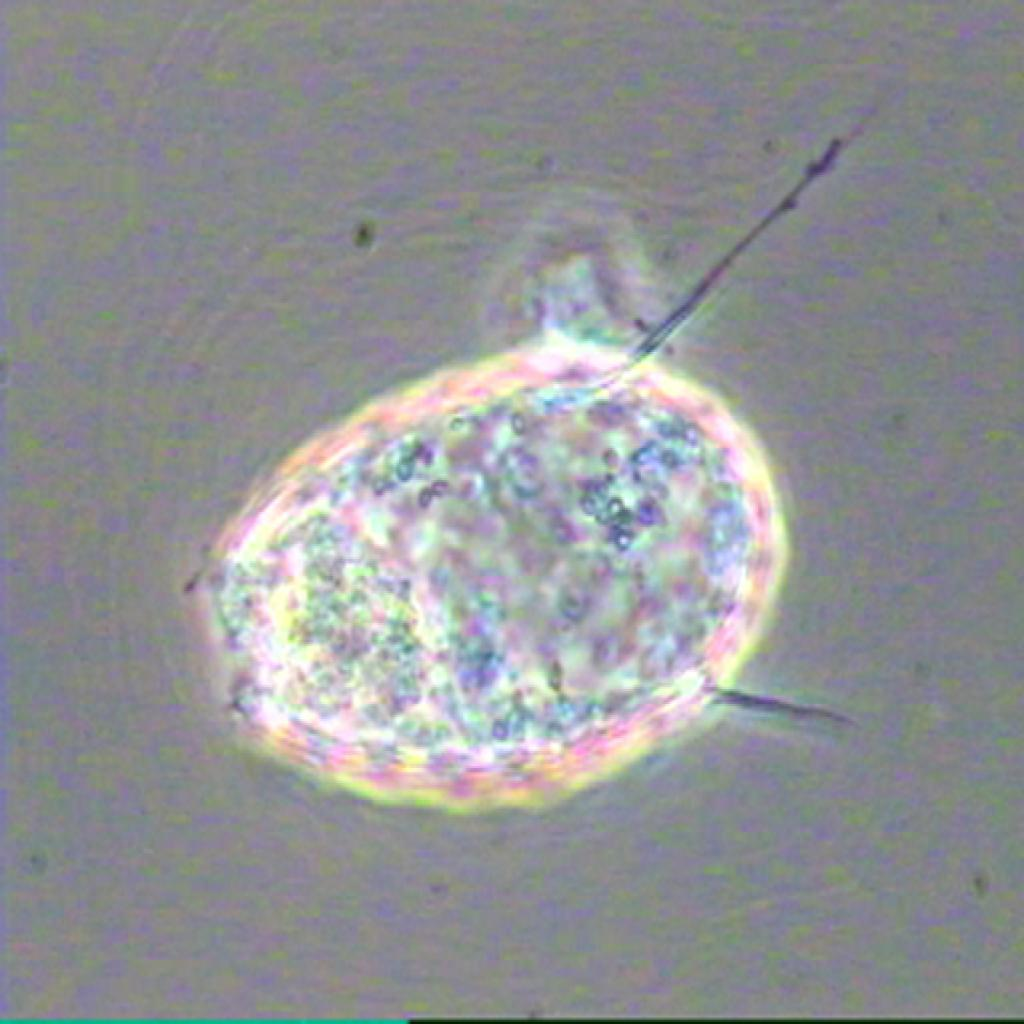Euglypha: (155, 107, 940, 832)
